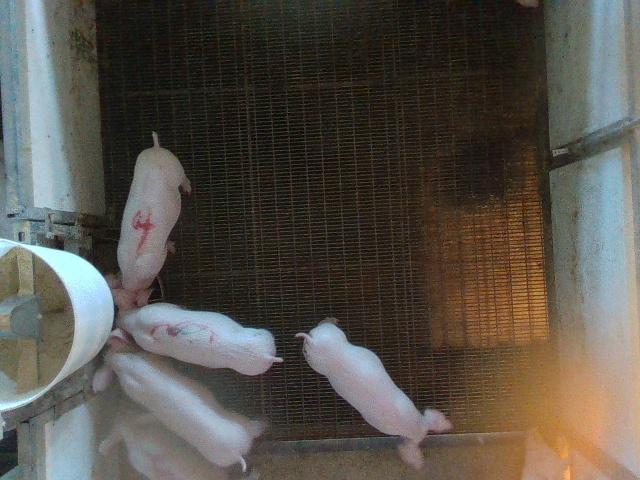pig-3: (112, 289, 282, 375)
pig-4: (118, 134, 191, 291)
